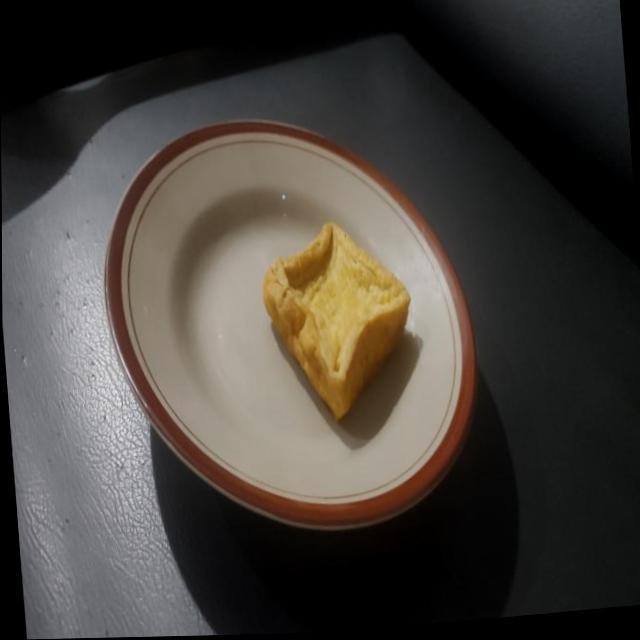tahu_goreng: (263, 222, 410, 420)
